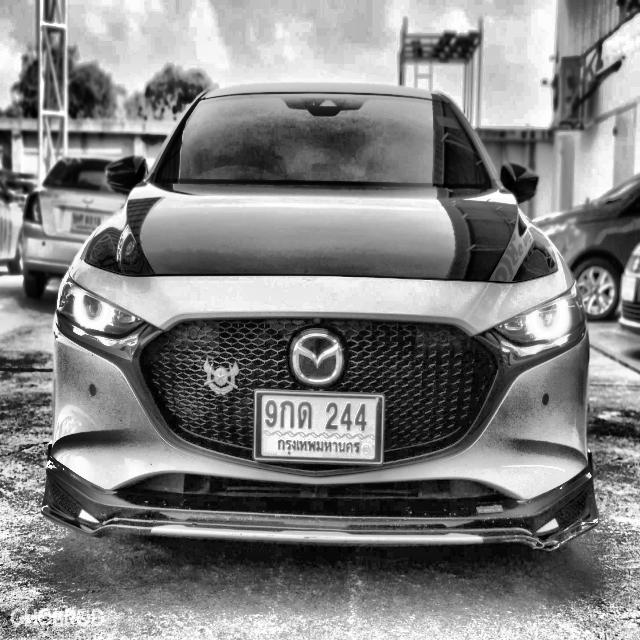license-plate: (258, 389, 385, 469)
